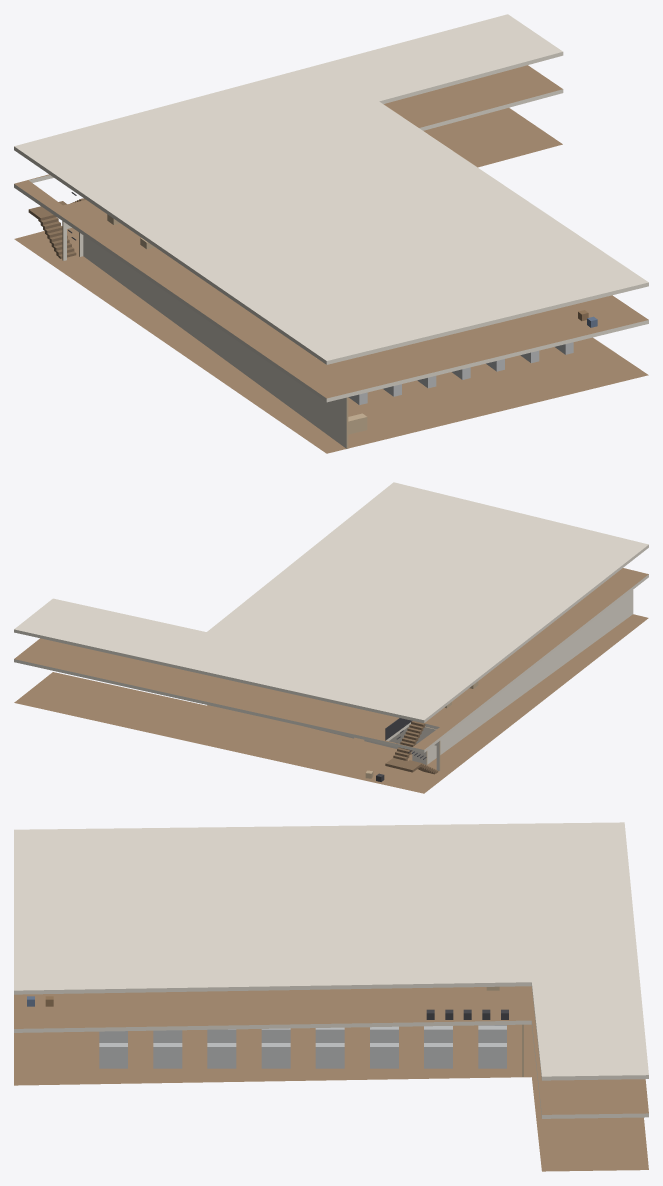
Rendered from interior.glb.
3 views of the same model, one above another, from view 1: azimuth 30°, elevation 25°; view 2: azimuth 150°, elevation 25°; view 3: azimuth 270°, elevation 25° (orthographic). The views are drawn at different scales.
Parts seen in each view (by area): view 1: slabs, partitions, coarse-s0, stair; view 2: slabs, partitions, stair; view 3: slabs, coarse-s0, coarse-s1.
Boxes of the visible parts, left/top/right/bottom form: slabs: left=14, top=14, right=648, bottom=453; partitions: left=62, top=221, right=348, bottom=448; coarse-s0: left=348, top=342, right=573, bottom=434; stair: left=28, top=192, right=85, bottom=258; slabs: left=14, top=482, right=648, bottom=793; partitions: left=308, top=590, right=633, bottom=770; stair: left=385, top=718, right=438, bottom=774; slabs: left=14, top=822, right=648, bottom=1171; coarse-s0: left=99, top=1025, right=506, bottom=1068; coarse-s1: left=27, top=986, right=508, bottom=1019.
Size of the model in its own units: 35.55 by 6.21 by 37.53.
